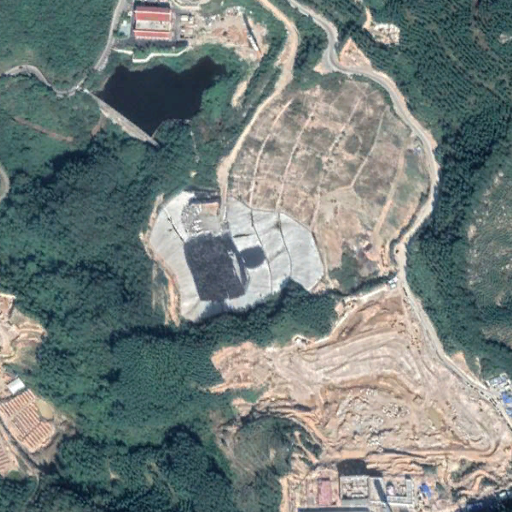lf: (150, 192, 321, 322)
